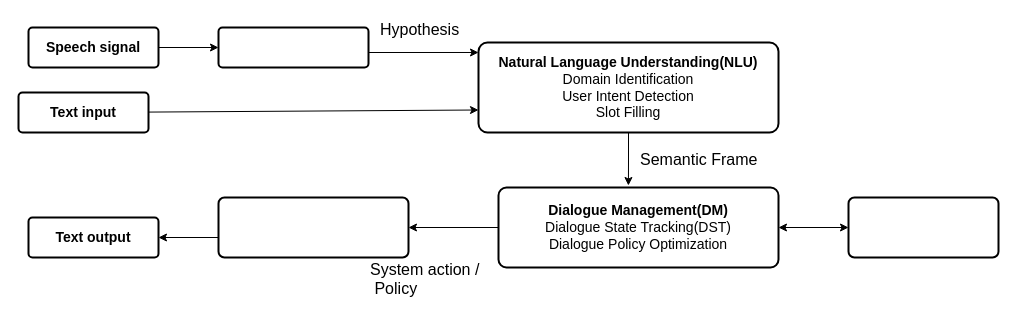
Image size: 1016x315. Some labels were removed from this diagram. The box of each missing label's shape, as (x1, y1, x2, y2) in pixels:
Backend database/ Knowledge providers: (847, 196, 999, 258)
Natural Language Generation(NLG): (217, 196, 409, 258)
Speech Recognition: (217, 26, 369, 68)
